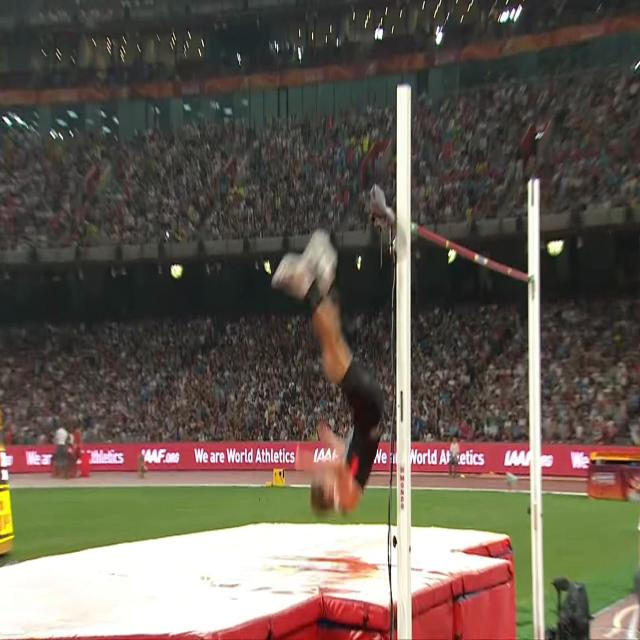land: (271, 230, 383, 514)
